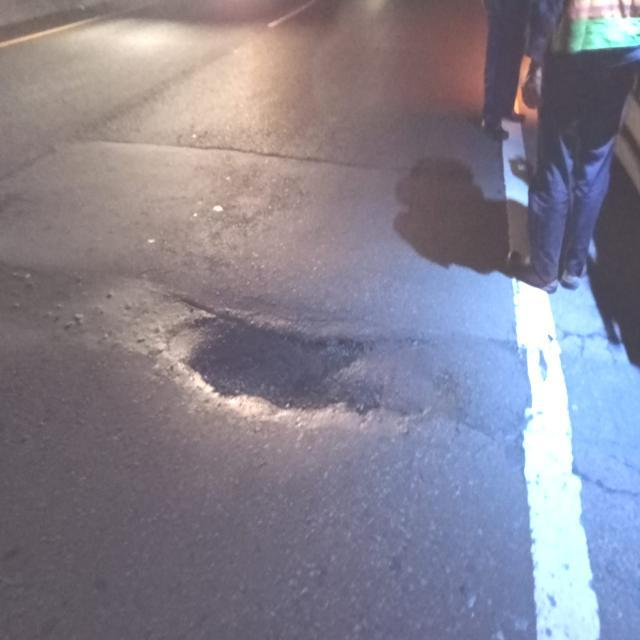Buraco: (159, 295, 390, 422)
